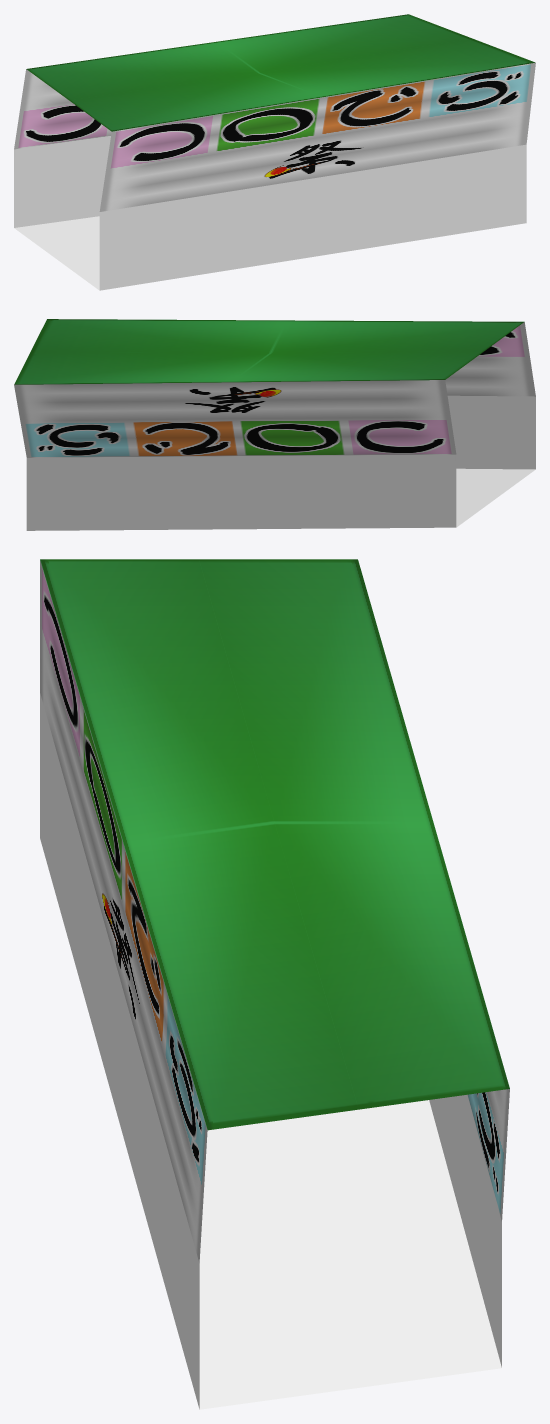
File: CourseWinter_Wall_R_11_6.fbx
The picture shows the model from 3 angles, top to bottom: view 1: azimuth 30°, elevation 25°; view 2: azimuth 150°, elevation 25°; view 3: azimuth 270°, elevation 25°; orthographic projection. The views are drawn at different scales.
Visible parts, largest first — view 1: polySurface522; view 2: polySurface522; view 3: polySurface522.
Part boxes in pixels (<box>): polySurface522: <box>14,14,535,290</box>; polySurface522: <box>14,319,535,530</box>; polySurface522: <box>40,559,509,1409</box>.
Size of the model in its own units: 6.41 by 2.99 by 2.92.
Materials: 1 (1 with a texture image).
